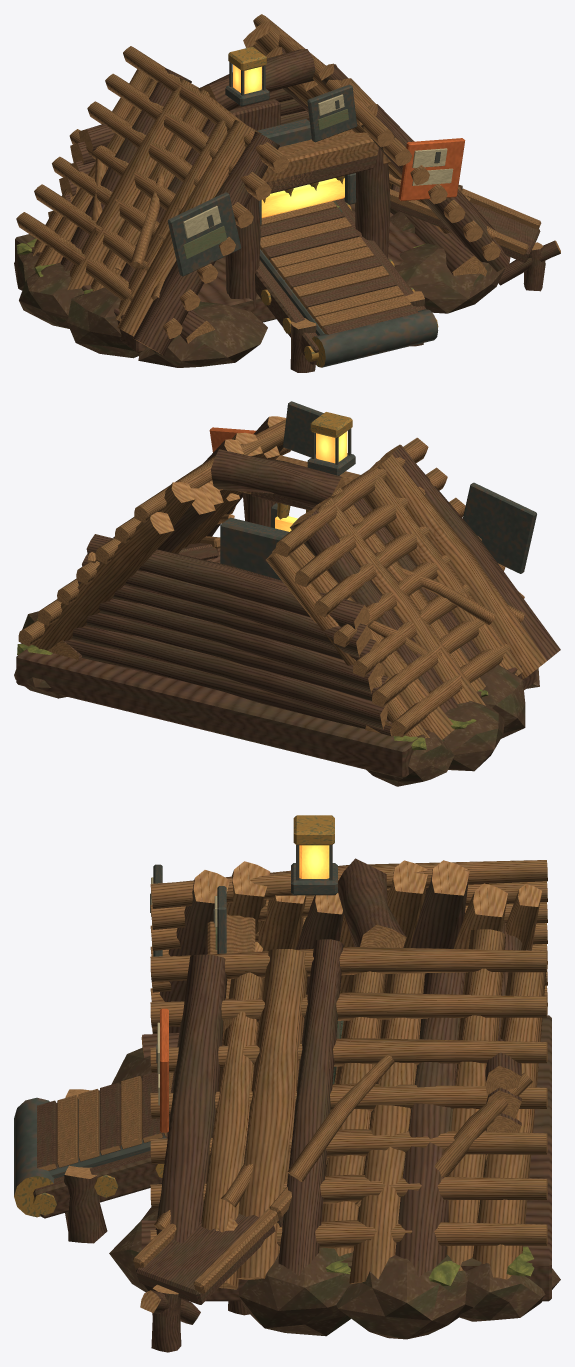
File: landing.glb
3 views of the same model, one above another, from view 1: azimuth 30°, elevation 25°; view 2: azimuth 150°, elevation 25°; view 3: azimuth 270°, elevation 25° (orthographic). The views are drawn at different scales.
Parts seen in each view (by area): view 1: beaver; view 2: beaver; view 3: beaver.
Boxes of the visible parts, x1=… form: beaver: x1=14, y1=14, x2=560, y2=372; beaver: x1=14, y1=401, x2=560, y2=786; beaver: x1=14, y1=815, x2=560, y2=1352.
Size of what is drawn, in the model's own units: 13.18 by 7.51 by 9.81.
Materials: 1 (1 with a texture image).
